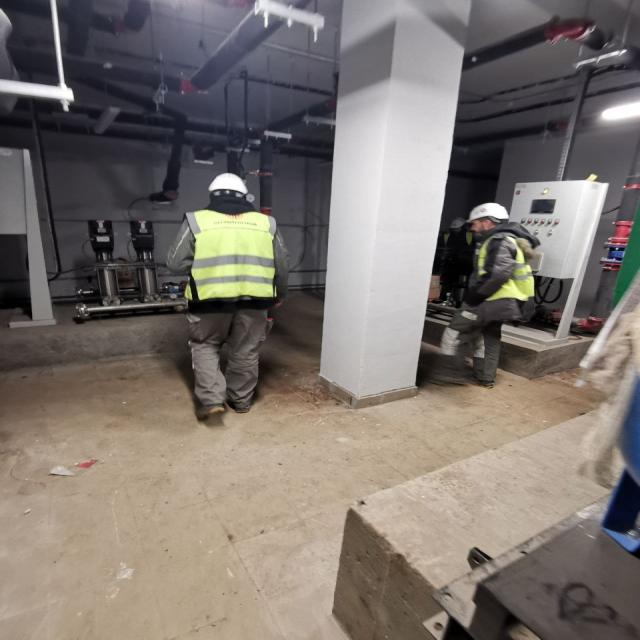Helmet: (202, 173, 252, 208), (467, 203, 511, 237), (450, 218, 467, 235)
